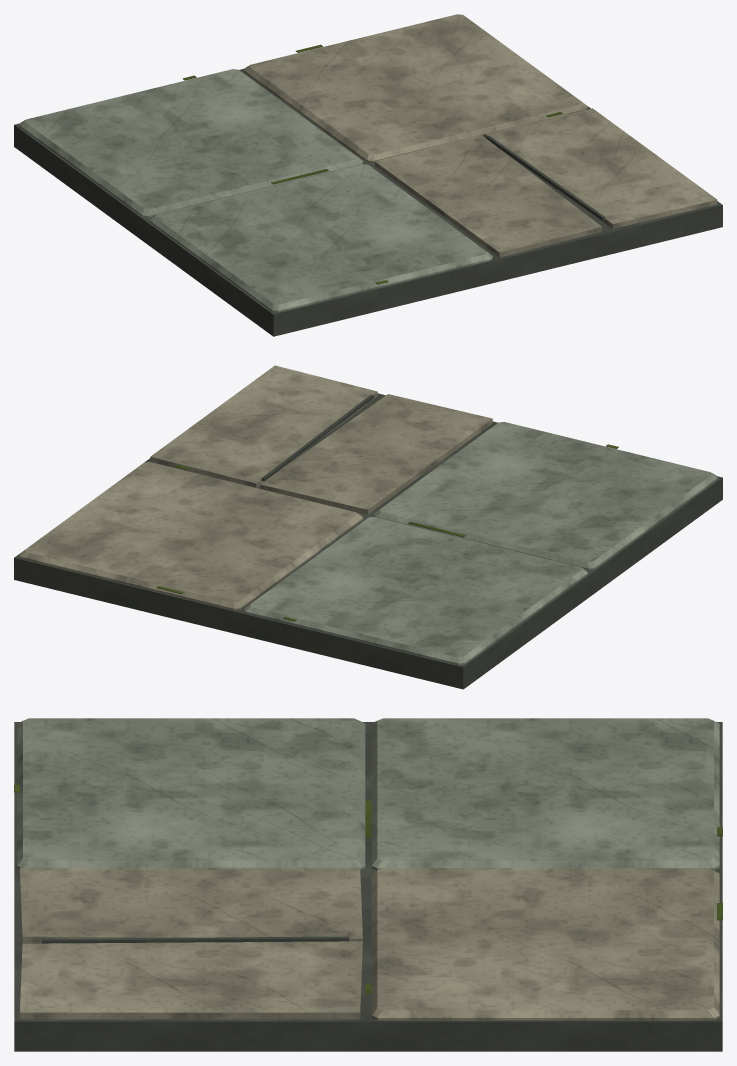
The model's file is b02_floor_worn.fbx.
3 views of the same model, one above another, from view 1: azimuth 30°, elevation 25°; view 2: azimuth 150°, elevation 25°; view 3: azimuth 270°, elevation 25° (orthographic). The views are drawn at different scales.
Visible parts, largest first — view 1: b02_floor_worn; view 2: b02_floor_worn; view 3: b02_floor_worn.
Boxes of the visible parts, x1,y1,x2,y2 form: b02_floor_worn: (14,14,722,336); b02_floor_worn: (14,365,722,689); b02_floor_worn: (14,718,722,1051).
Size of the model in its own units: 25600 by 25620 by 1570.
